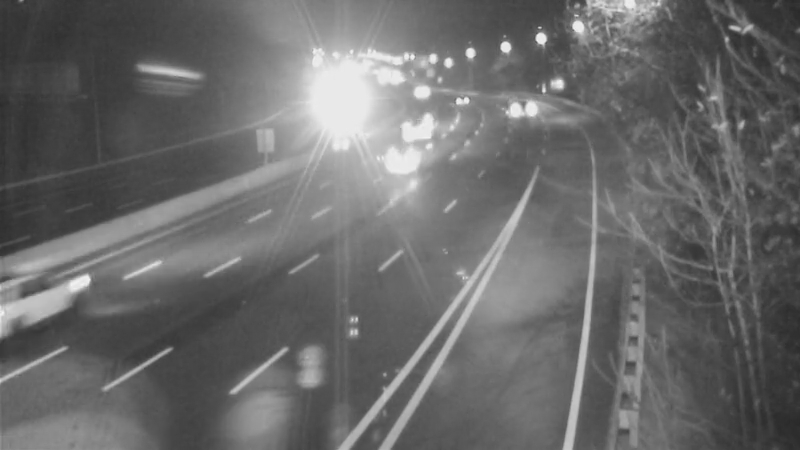vehicle: (1, 246, 104, 356), (364, 120, 444, 200), (391, 67, 441, 117), (440, 76, 490, 126), (494, 83, 544, 133), (397, 104, 447, 154), (315, 93, 365, 143)
